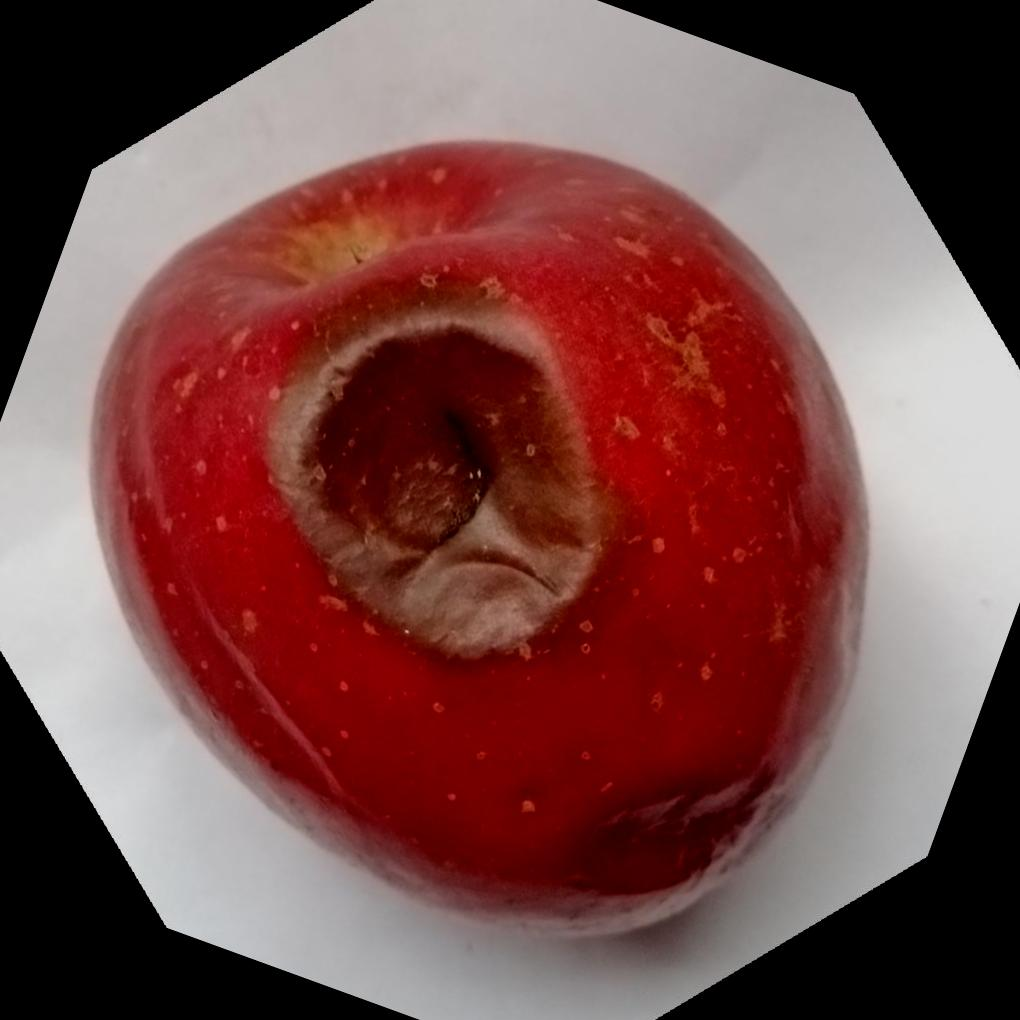FreshOrange: (88, 137, 874, 943)
